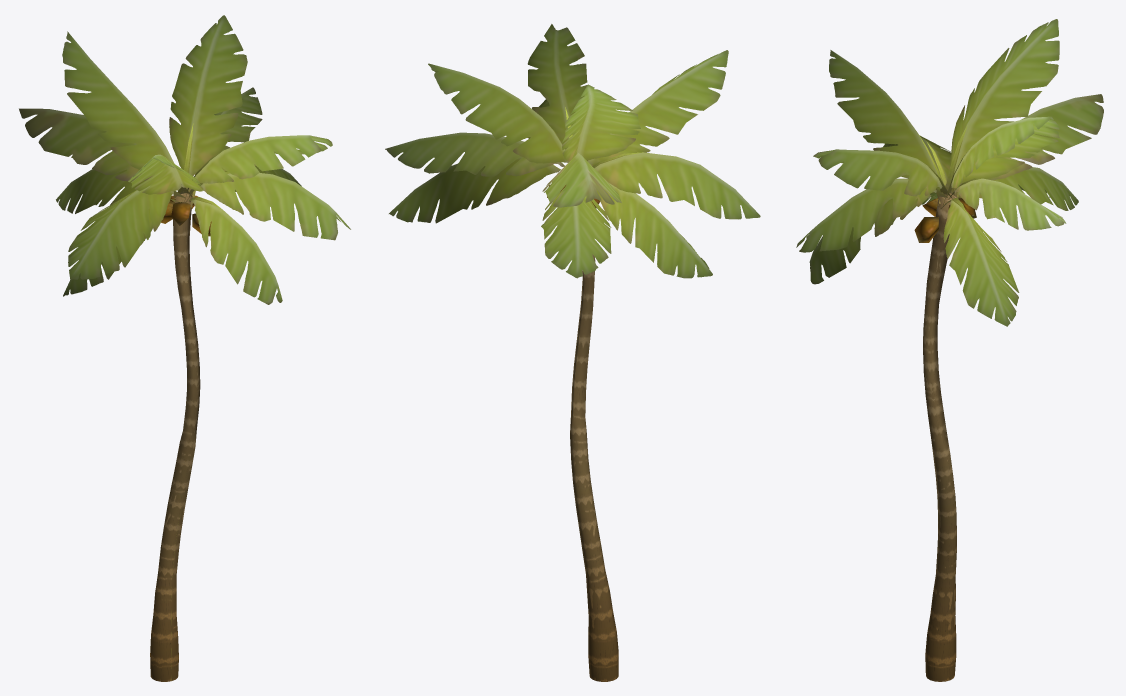
File: coconut palm 02_lod3.obj
3 renders of one model, left to right at view 1: azimuth 30°, elevation 25°; view 2: azimuth 150°, elevation 25°; view 3: azimuth 270°, elevation 25°, orthographic. The views are drawn at different scales.
Parts seen in each view (by area): view 1: tree; view 2: tree; view 3: tree.
Boxes of the visible parts, box(x1,y1,x2,y2) form: tree: box(19, 15, 350, 681); tree: box(385, 24, 760, 681); tree: box(796, 19, 1103, 681).
Bounding box in the file's own units: 426 × 847 × 388.
